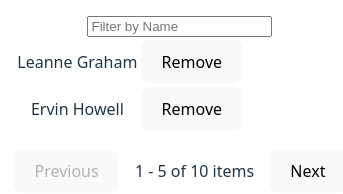
it: User List › filters users
Expected: the text "Leanne Graham" is shown, [16, 39, 138, 84]
Expected: the number of buttons "Remove" is 2, [141, 40, 242, 83]; [141, 87, 242, 131]
Type "ervin" into the field named "filter-name" at (180, 27), box [88, 16, 272, 37]
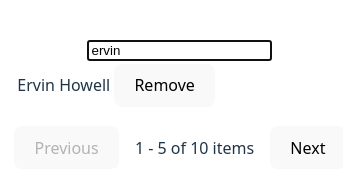
Result: the number of buttons "Remove" is 1 at [114, 64, 215, 107]
